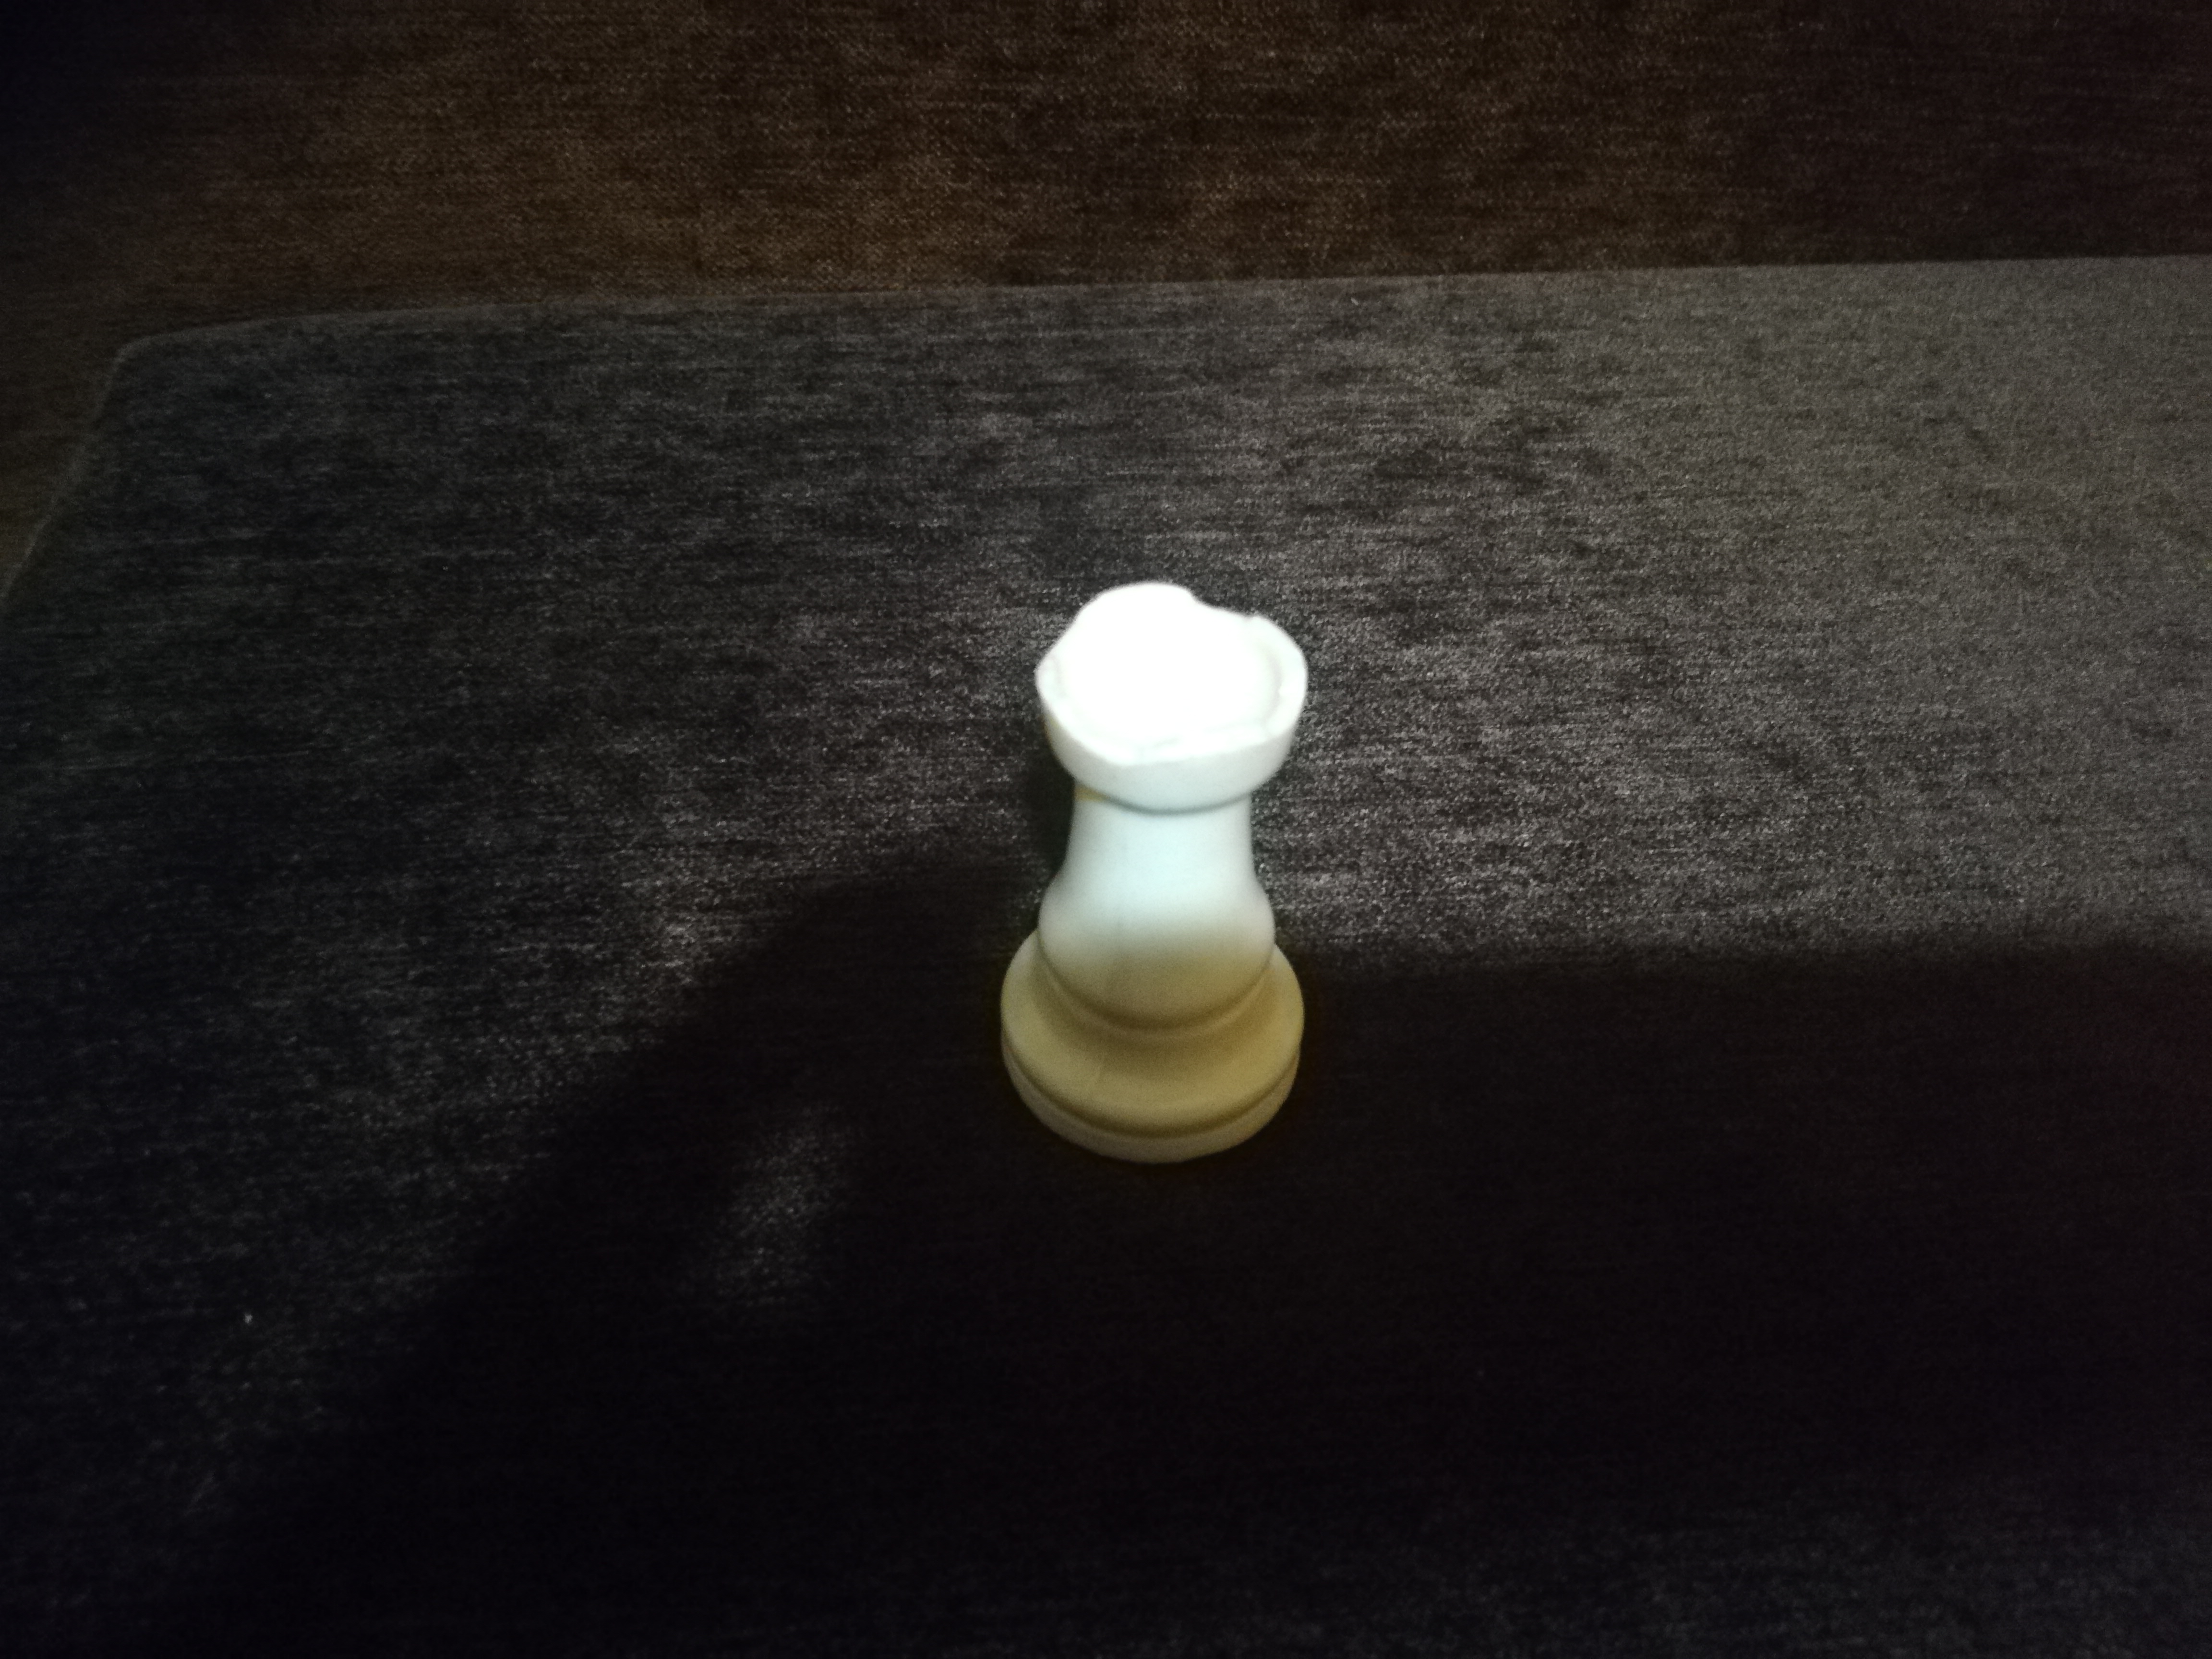Rook: (989, 563, 1320, 1158)
